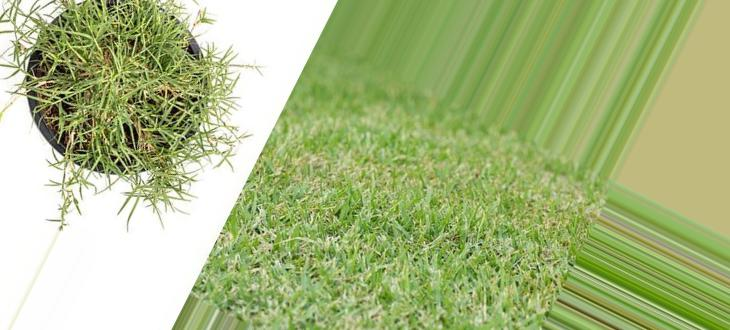patch: (308, 156, 421, 177), (67, 111, 115, 154), (97, 41, 125, 67), (156, 85, 203, 99), (299, 183, 337, 198), (138, 117, 152, 153), (283, 156, 299, 168)
